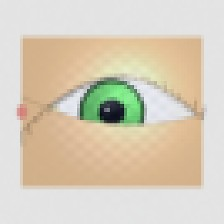pinguecula_lesion: (36, 99, 67, 123)
